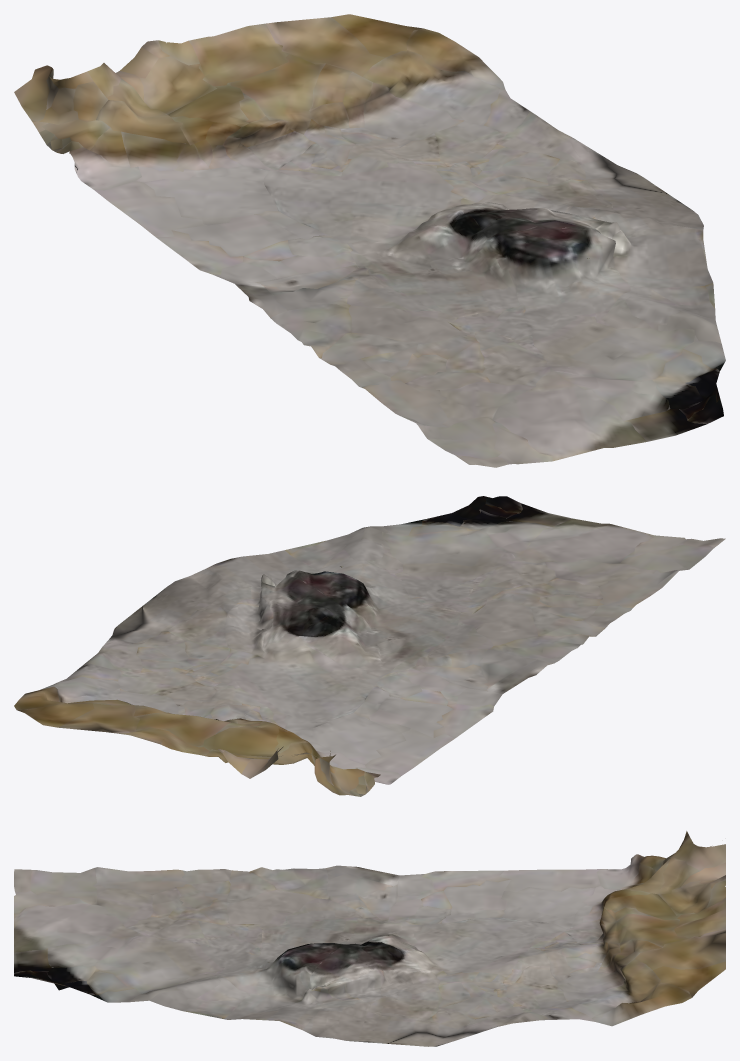
File: hall.glb
3 renders of one model, top to bottom at view 1: azimuth 30°, elevation 25°; view 2: azimuth 150°, elevation 25°; view 3: azimuth 270°, elevation 25°, orthographic. The views are drawn at different scales.
Size of the model in its own units: 1.63 by 0.3018 by 2.93.
1 material, 1 textured.
